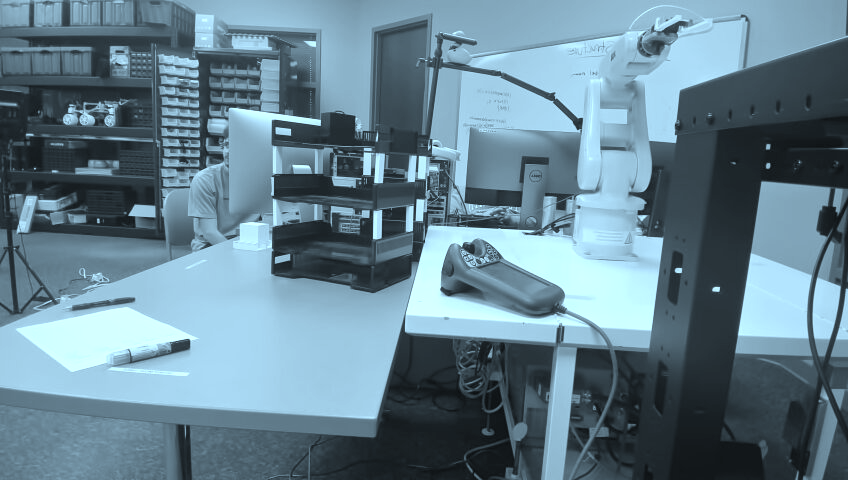black pallet: (310, 108, 360, 143)
